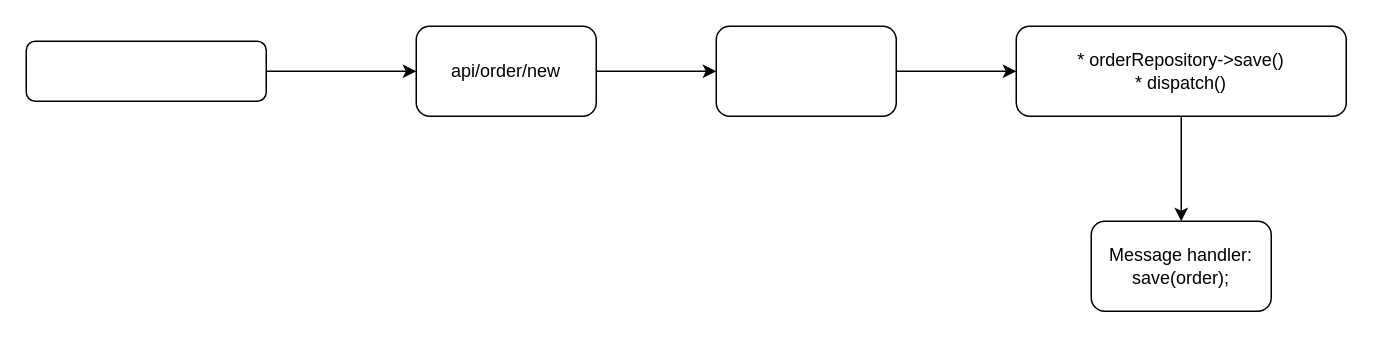
The diagram is 1373 pixels wide and 338 high, and some of its shapes have lost their labels. Here are the shapes that lost their labels. From the top down, the box of each, then its label:
(25, 40, 266, 101): Send several orders
(715, 25, 896, 116): createOrder
